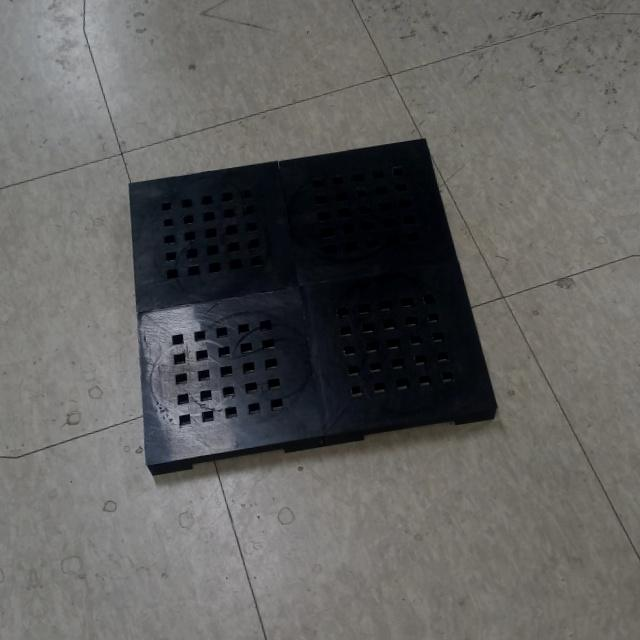pallet: (120, 133, 508, 480)
